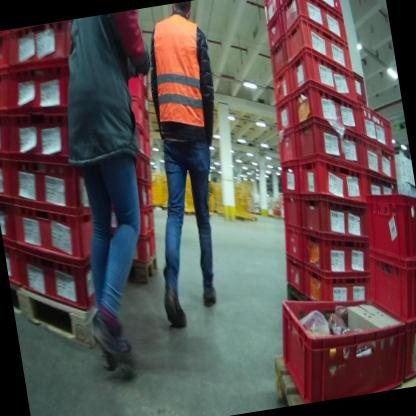pallet: (11, 263, 122, 367), (268, 329, 416, 407), (108, 248, 164, 292)
small_load_carrier: (268, 279, 408, 403), (15, 232, 111, 322), (10, 185, 102, 268), (3, 140, 94, 223), (1, 98, 95, 174), (284, 36, 357, 118), (294, 182, 375, 252), (357, 183, 416, 279), (281, 9, 353, 86), (362, 239, 416, 339), (287, 75, 361, 146), (298, 219, 375, 286), (296, 250, 378, 312), (365, 291, 416, 390), (0, 55, 82, 116), (293, 149, 368, 214), (293, 114, 364, 180), (278, 0, 348, 61), (3, 21, 81, 74), (354, 97, 398, 163), (100, 221, 153, 275), (100, 198, 155, 240), (360, 133, 399, 182), (280, 0, 344, 28), (364, 165, 404, 208), (278, 249, 311, 300), (277, 219, 310, 266), (273, 159, 307, 203), (271, 122, 301, 169), (263, 34, 291, 79), (267, 66, 295, 111), (279, 189, 305, 235), (3, 239, 23, 293), (269, 97, 297, 134), (0, 145, 16, 206), (0, 192, 18, 246), (123, 77, 148, 113), (264, 10, 287, 49), (0, 106, 17, 157), (123, 64, 152, 93), (0, 64, 15, 117), (128, 90, 147, 130), (127, 149, 149, 181), (260, 0, 284, 27), (132, 117, 147, 160), (137, 100, 153, 138), (352, 71, 369, 106), (141, 205, 157, 240), (0, 34, 14, 73), (134, 178, 151, 208), (139, 132, 154, 161), (141, 158, 154, 190), (145, 230, 159, 255), (141, 180, 155, 205), (150, 208, 150, 209)
